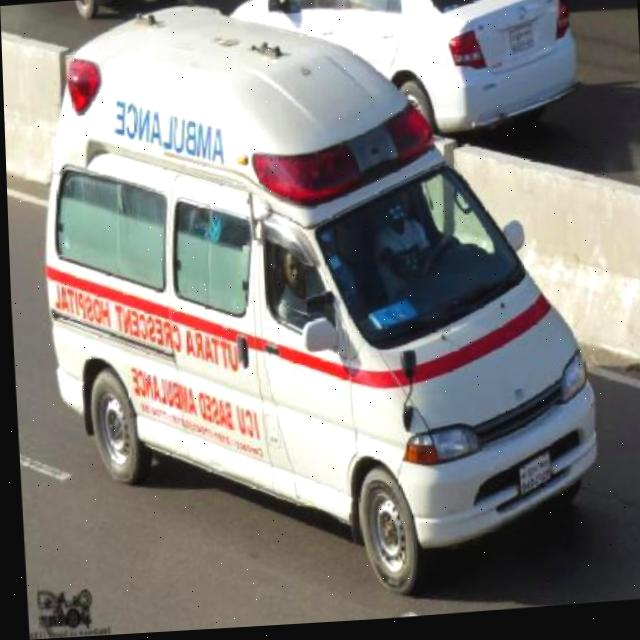emergency: (30, 0, 602, 620)
